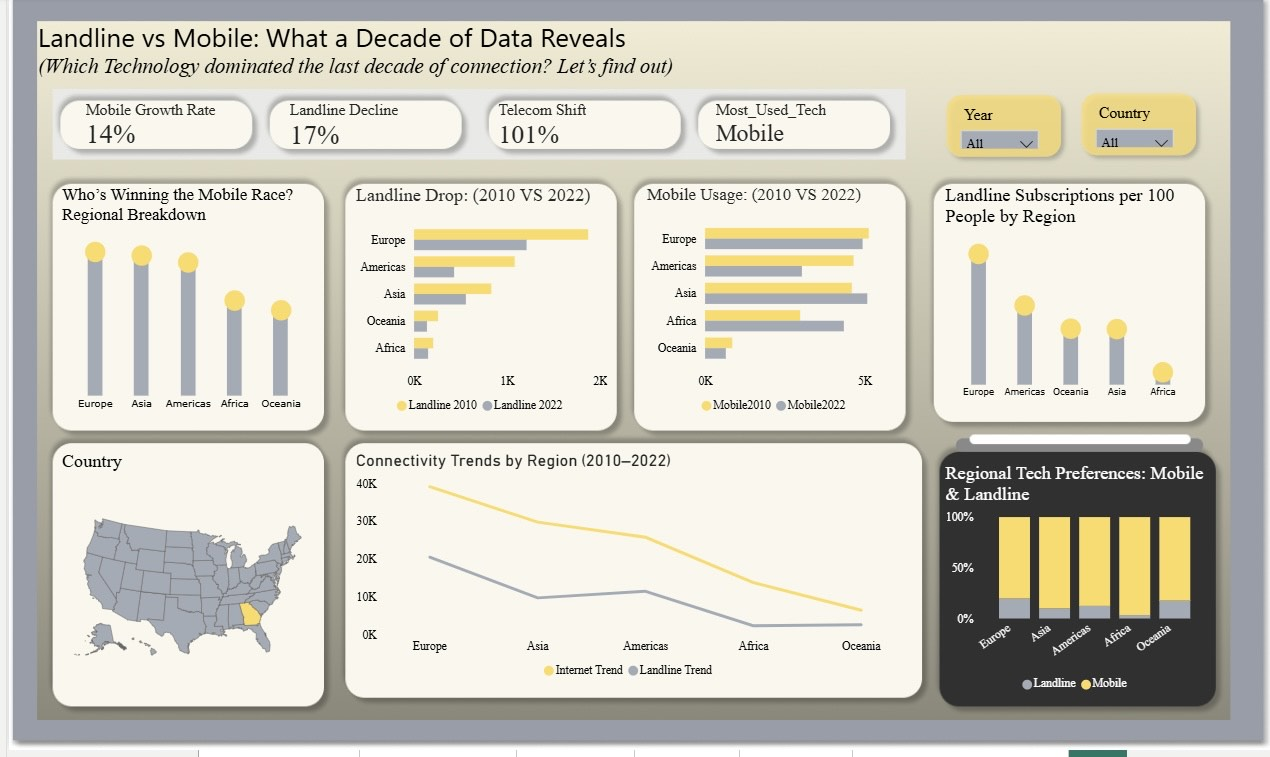

The page's visual inventory and layout, read from the dashboard file:
{"tool":"powerbi","page":{"name":"Page 1","canvas":[1290,769],"ordinal":4},"visuals":[{"type":"shape","box":[1085.2,90.2,135,81.1],"z":0,"group":"g1"},{"type":"shape","box":[947.7,91.6,135,81.1],"z":0,"group":"g2"},{"type":"lineChart","title":"Connectivity Trends by Region (2010–2022)","fields":{"Category":["Countries.Region"],"Y":["_Measures.Total_Internet_2013_2022","_Measures.Total_Landline_2013_2022"]},"box":[348.8,463.6,569.1,243.2],"z":0},{"type":"slicer","fields":{"Values":["Countries.Country"]},"box":[1099.6,106.1,99.4,48.6],"z":1000,"group":"g1"},{"type":"slicer","fields":{"Values":["Years.Year"]},"box":[962.1,107.5,99.4,48.6],"z":1000,"group":"g2"},{"type":"lollipopcolumn216FD8C19B9DC0D953B3FAE4C3997742","title":"Who’s Winning the Mobile Race? Regional Breakdown","fields":{"col_0":["Countries.Region"],"col_1":["_Measures.Mobile subscriptions (per 100 ppl)"]},"box":[49.5,192.4,266.6,243.8],"z":1000},{"type":"clusteredBarChart","title":"Mobile Usage: (2010 VS 2022)","fields":{"Y":["_Measures.Mobile2013","_Measures.Mobile2023"],"Category":["Countries.Region"]},"box":[645.6,192.4,272.3,243.8],"z":2000},{"type":"clusteredBarChart","title":"Landline Drop: (2010 VS 2022)","fields":{"Y":["_Measures.Telephone 2013","_Measures.Telephone 2022"],"Category":["Countries.Region"]},"box":[348.5,192.4,266.6,243.8],"z":3000},{"type":"shapeMap","fields":{"Category":["Countries.Country"]},"box":[49.5,462.8,266.6,257.1],"z":4000},{"type":"lollipopcolumn216FD8C19B9DC0D953B3FAE4C3997742","title":"Landline Subscriptions per 100 People by Region","fields":{"col_1":["_Measures.Landlines (per 100 ppl)"],"col_0":["Countries.Region"]},"box":[950.1,192.8,264.7,231],"z":5000},{"type":"hundredPercentStackedColumnChart","title":"Regional Tech Preferences:  Mobile & Landline","fields":{"Y":["_Measures.Landline","_Measures.Mobile"],"Category":["Countries.Region"]},"box":[950.1,475.8,276.9,244.8],"z":6000},{"type":"cardVisual","fields":{"Data":["_Measures.Pct_Increase_Mobile"]},"box":[61.2,90.3,186.6,70.4],"z":7000},{"type":"cardVisual","fields":{"Data":["_Measures.Pct_Decrease_Fixed"]},"box":[269.3,90.3,186.6,70.4],"z":8000},{"type":"cardVisual","fields":{"Data":["_Measures.Gap_Mobile_vs_Fixed_2022"]},"box":[481.9,90.3,186.6,70.4],"z":9000},{"type":"cardVisual","fields":{"Data":["_Measures.Most_Used_Tech"]},"box":[703.7,90.3,186.6,70.4],"z":10000},{"type":"group","id":"g1","title":"Group 1","box":[1085.2,90.2,135,81.1],"z":11000},{"type":"group","id":"g2","title":"Group 1","box":[947.7,91.6,134.6,81.1],"z":12000},{"type":"textbox","box":[24.5,18.4,1060.2,73.4],"z":13000}]}

Visuals, with their boxes in screenshot pixels (x1, y1, x2, y2), scaled from the page's 1290x769 canvas onto the 1270x757 screenshot:
shape: (left=1068, top=89, right=1201, bottom=169)
shape: (left=933, top=90, right=1066, bottom=170)
"Connectivity Trends by Region (2010–2022)" lineChart: (left=343, top=456, right=904, bottom=696)
slicer - Countries.Country: (left=1083, top=104, right=1180, bottom=152)
slicer - Years.Year: (left=947, top=106, right=1045, bottom=154)
"Who’s Winning the Mobile Race? Regional Breakdown" lollipopcolumn216FD8C19B9DC0D953B3FAE4C3997742: (left=49, top=189, right=311, bottom=429)
"Mobile Usage: (2010 VS 2022)" clusteredBarChart: (left=636, top=189, right=904, bottom=429)
"Landline Drop: (2010 VS 2022)" clusteredBarChart: (left=343, top=189, right=606, bottom=429)
shapeMap - Countries.Country: (left=49, top=456, right=311, bottom=709)
"Landline Subscriptions per 100 People by Region" lollipopcolumn216FD8C19B9DC0D953B3FAE4C3997742: (left=935, top=190, right=1196, bottom=417)
"Regional Tech Preferences:  Mobile & Landline" hundredPercentStackedColumnChart: (left=935, top=468, right=1208, bottom=709)
cardVisual - _Measures.Pct_Increase_Mobile: (left=60, top=89, right=244, bottom=158)
cardVisual - _Measures.Pct_Decrease_Fixed: (left=265, top=89, right=449, bottom=158)
cardVisual - _Measures.Gap_Mobile_vs_Fixed_2022: (left=474, top=89, right=658, bottom=158)
cardVisual - _Measures.Most_Used_Tech: (left=693, top=89, right=876, bottom=158)
"Group 1" group: (left=1068, top=89, right=1201, bottom=169)
"Group 1" group: (left=933, top=90, right=1066, bottom=170)
textbox: (left=24, top=18, right=1068, bottom=90)
